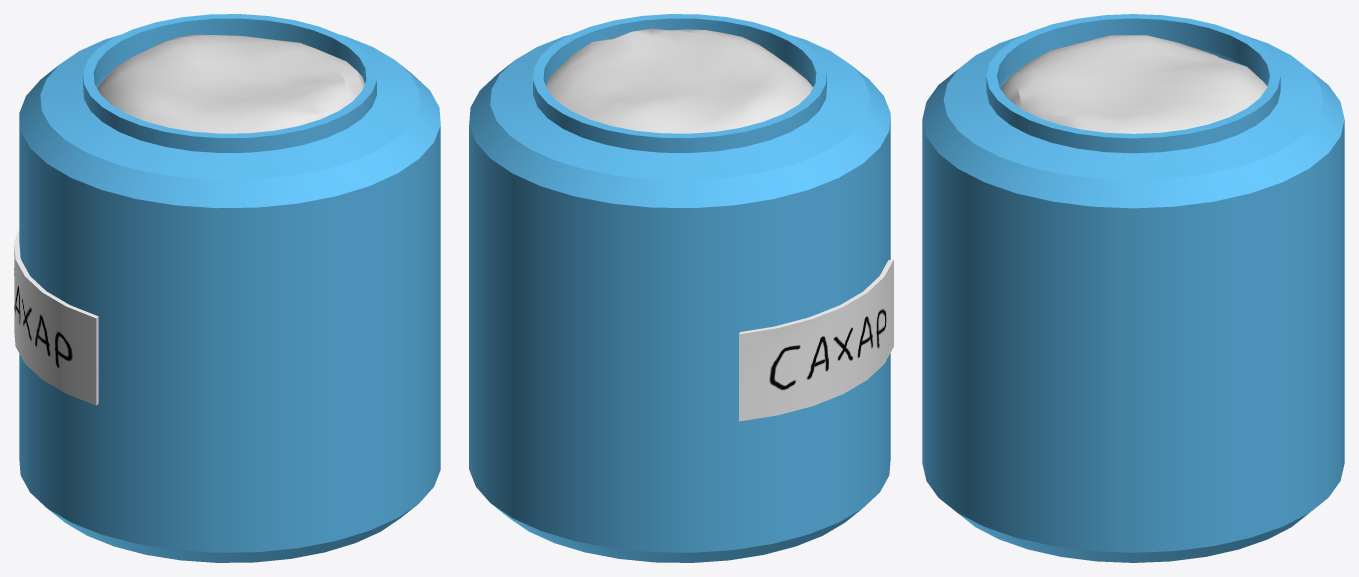
File: sugar.dae
3 views of the same model, side by side, from view 1: azimuth 30°, elevation 25°; view 2: azimuth 150°, elevation 25°; view 3: azimuth 270°, elevation 25° (orthographic).
Visible parts, largest first — view 1: Sugar; view 2: Sugar; view 3: Sugar.
Part boxes in pixels (x1,y1,x2,y2): Sugar: [14, 14, 440, 562]; Sugar: [469, 14, 893, 562]; Sugar: [922, 14, 1344, 562].
Size of the model in its own units: 2.03 by 2 by 2.13.
